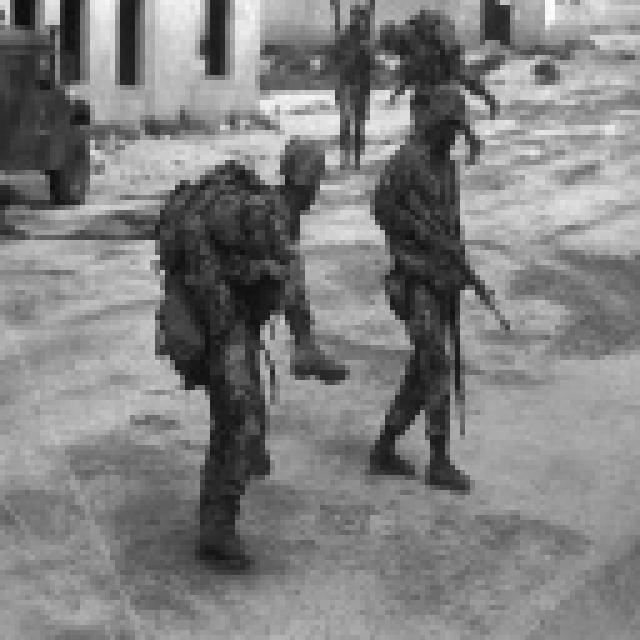Rifle: (399, 184, 552, 390), (160, 222, 308, 410)
